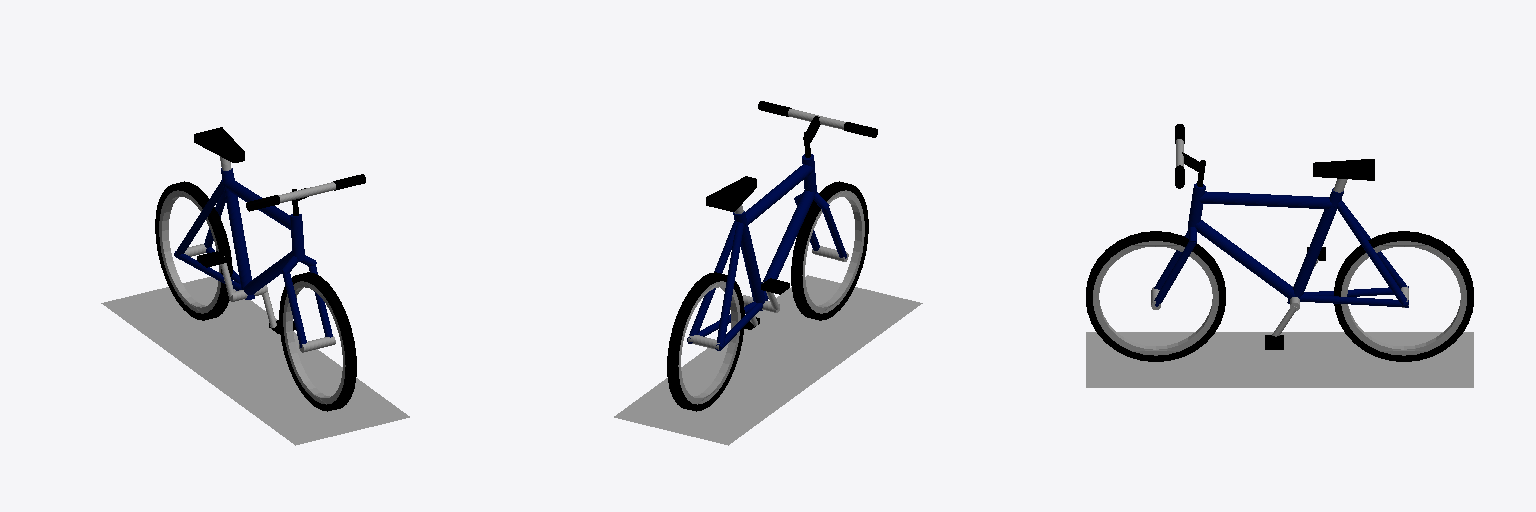
The model's file is Bici.obj.
3 renders of one model, left to right at view 1: azimuth 30°, elevation 25°; view 2: azimuth 150°, elevation 25°; view 3: azimuth 270°, elevation 25°, orthographic.
Parts seen in each view (by area): view 1: ground_1, Cylinder_9, Circle_6, 3, 8, 2, 7; view 2: ground_1, Cylinder_9, Circle_6, 3, 8, 2, 7; view 3: ground_1, Cylinder_9, Circle_6, 3, 2, 7, 8.
Boxes of the visible parts, <box> form: ground_1: <box>101,277,409,445</box>; Cylinder_9: <box>174,168,332,347</box>; Circle_6: <box>155,181,356,411</box>; 3: <box>159,190,345,404</box>; 8: <box>179,156,335,352</box>; 2: <box>194,127,244,162</box>; 7: <box>246,174,365,215</box>; ground_1: <box>614,275,922,445</box>; Cylinder_9: <box>687,154,846,350</box>; Circle_6: <box>667,181,868,411</box>; 3: <box>678,190,864,404</box>; 8: <box>688,109,848,349</box>; 2: <box>706,176,756,211</box>; 7: <box>758,101,877,157</box>; ground_1: <box>1086,332,1473,387</box>; Cylinder_9: <box>1154,183,1408,307</box>; Circle_6: <box>1086,231,1473,361</box>; 3: <box>1093,241,1466,355</box>; 2: <box>1313,159,1374,180</box>; 7: <box>1175,124,1205,188</box>; 8: <box>1151,139,1408,310</box>.
Bounding box in the file's own units: 54.5 × 94.2 × 159.